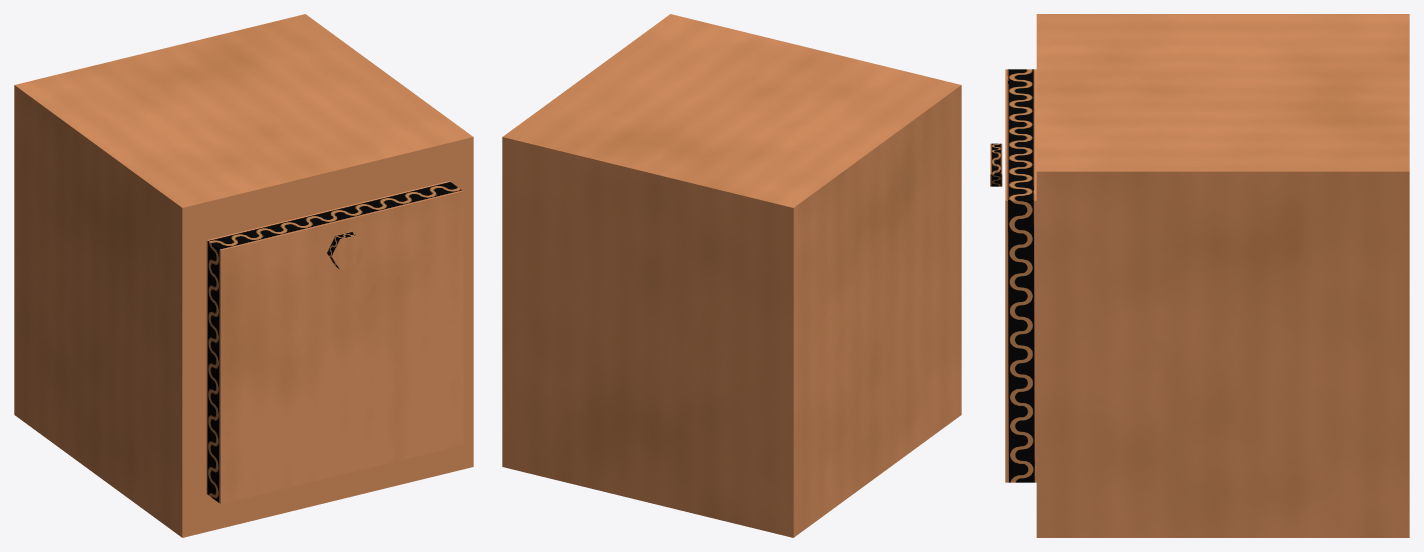
File: M_CardboardKitchen_Cupboard3.fbx
3 renders of one model, left to right at view 1: azimuth 30°, elevation 25°; view 2: azimuth 150°, elevation 25°; view 3: azimuth 270°, elevation 25°, orthographic. The views are drawn at different scales.
Parts seen in each view (by area): view 1: M_CardboardKitchen_Cupboard3, Drawer_3; view 2: M_CardboardKitchen_Cupboard3; view 3: M_CardboardKitchen_Cupboard3, Drawer_3.
Boxes of the visible parts, x1=… form: M_CardboardKitchen_Cupboard3: x1=14, y1=14, x2=473, y2=537; Drawer_3: x1=206, y1=181, x2=463, y2=503; M_CardboardKitchen_Cupboard3: x1=502, y1=14, x2=961, y2=537; M_CardboardKitchen_Cupboard3: x1=1036, y1=14, x2=1409, y2=537; Drawer_3: x1=990, y1=69, x2=1036, y2=482.
Bounding box in the file's own units: 3 × 3.25 × 3.37.
1 material, 1 textured.
